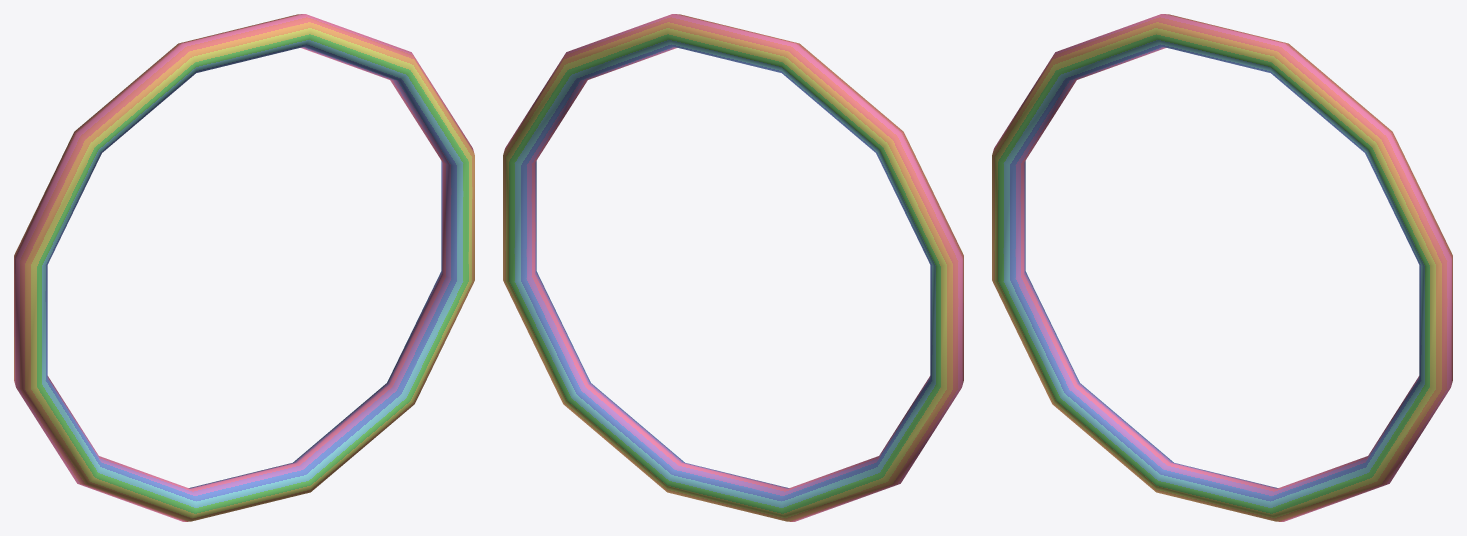
Rendered from 02b8_Rainbow.glb.
3 renders of one model, left to right at view 1: azimuth 30°, elevation 25°; view 2: azimuth 150°, elevation 25°; view 3: azimuth 330°, elevation 25°, orthographic.
Parts seen in each view (by area): view 1: part_0; view 2: part_0; view 3: part_0.
Boxes of the visible parts, bbox=[...] form: part_0: bbox=[14, 14, 474, 521]; part_0: bbox=[503, 14, 963, 521]; part_0: bbox=[992, 14, 1452, 521].
Bounding box in the file's own units: 718 × 718 × 48.13.
1 material, 1 textured.
